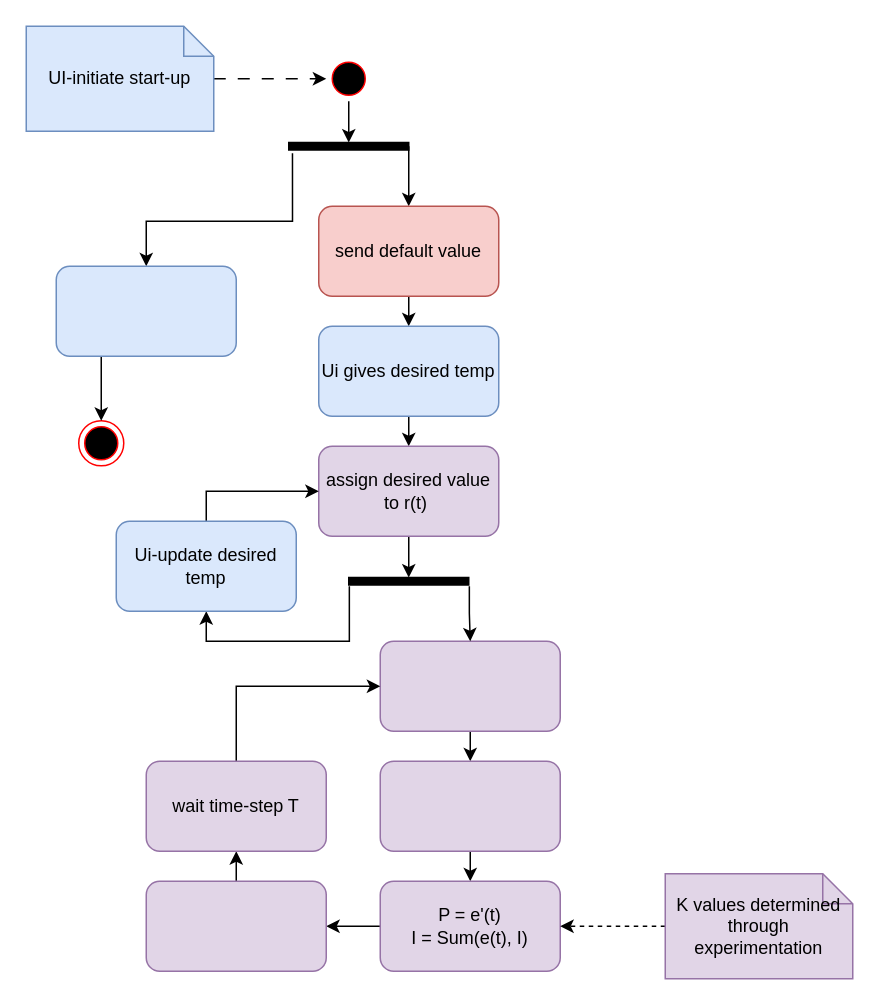
Some shapes in this 879 by 1005 pixel diagram are drawn without their labels. The centre of each missing label's shape, as x and y in pixels:
Calc v(t) to be sent to TEC sub-block: pixel 235 925
e(t) = r(t) - y(t): pixel 469 805
grab data from temp sensors y(t): pixel 469 685
Ui-interupt power down: pixel 145 310
